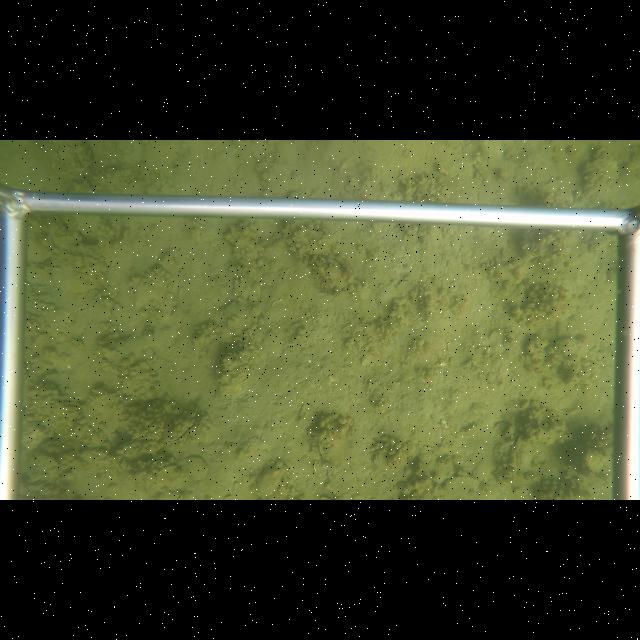Oyster-Closed: (160, 452, 211, 492), (252, 460, 290, 500), (441, 475, 482, 490)
